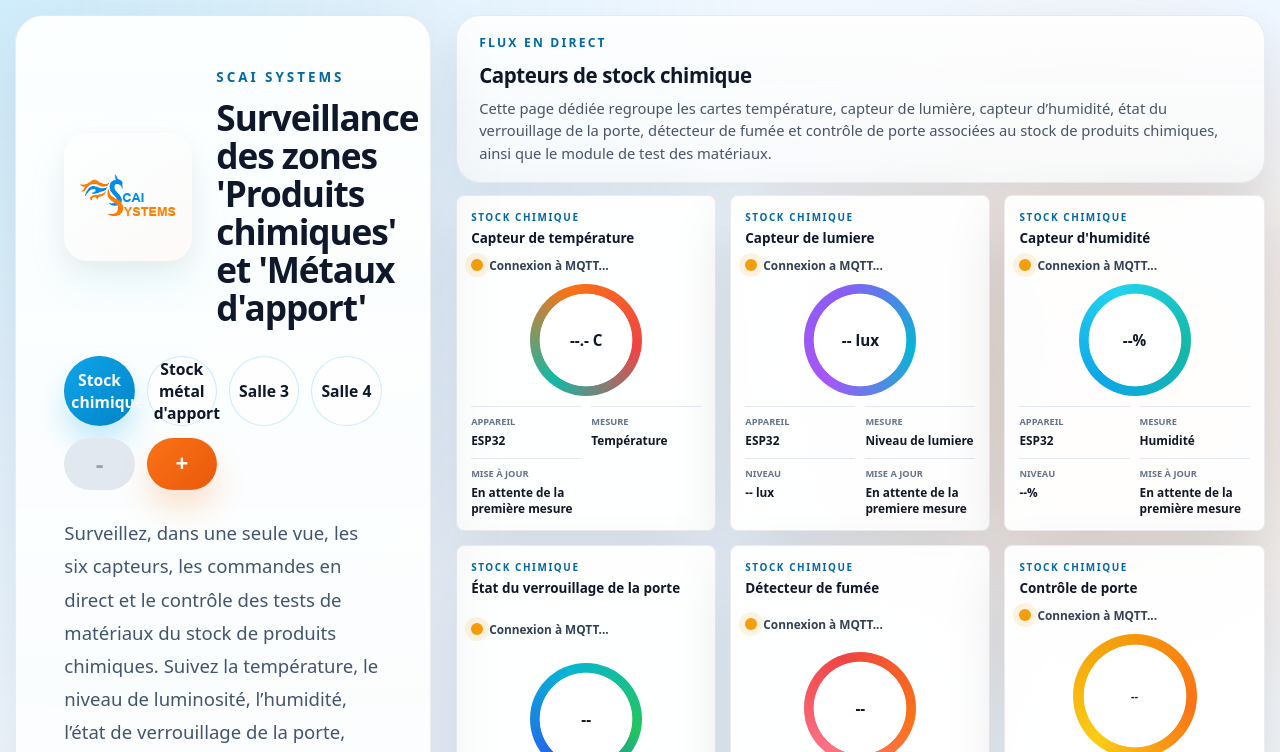
Scenario: switches to a dedicated page for another room
Click the button "Salle 4" at (346,392), box [311,356,382,426]
(page scrolled)
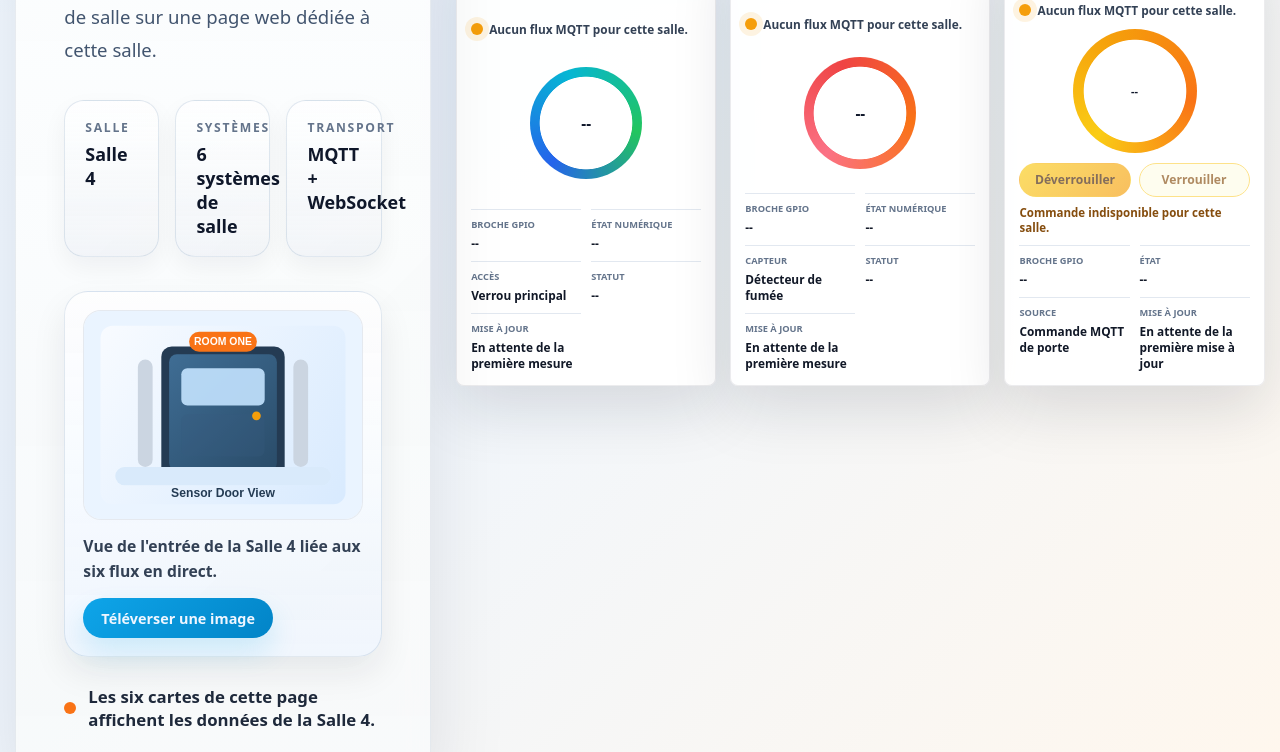
expect the file field "Téléverser une image" is shown: met, box [83,598,273,638]
expect the picture with alt text "porte de la salle 4" is shown: met, box [83,310,363,520]
